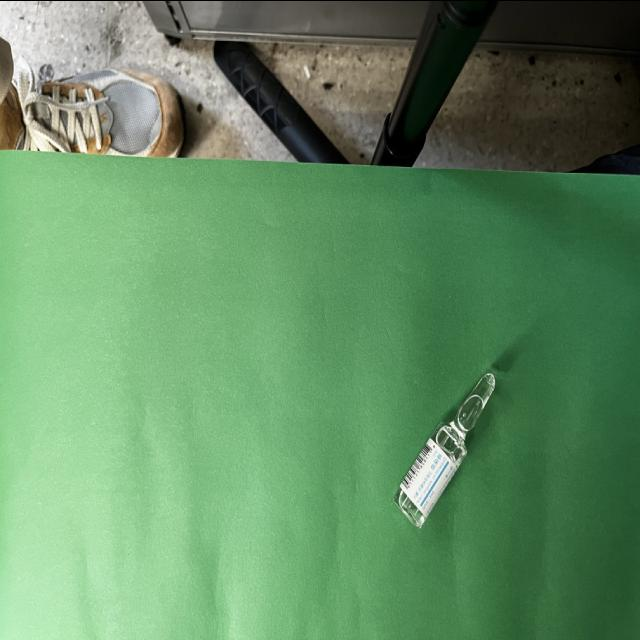Ampoules: (396, 371, 496, 527)
